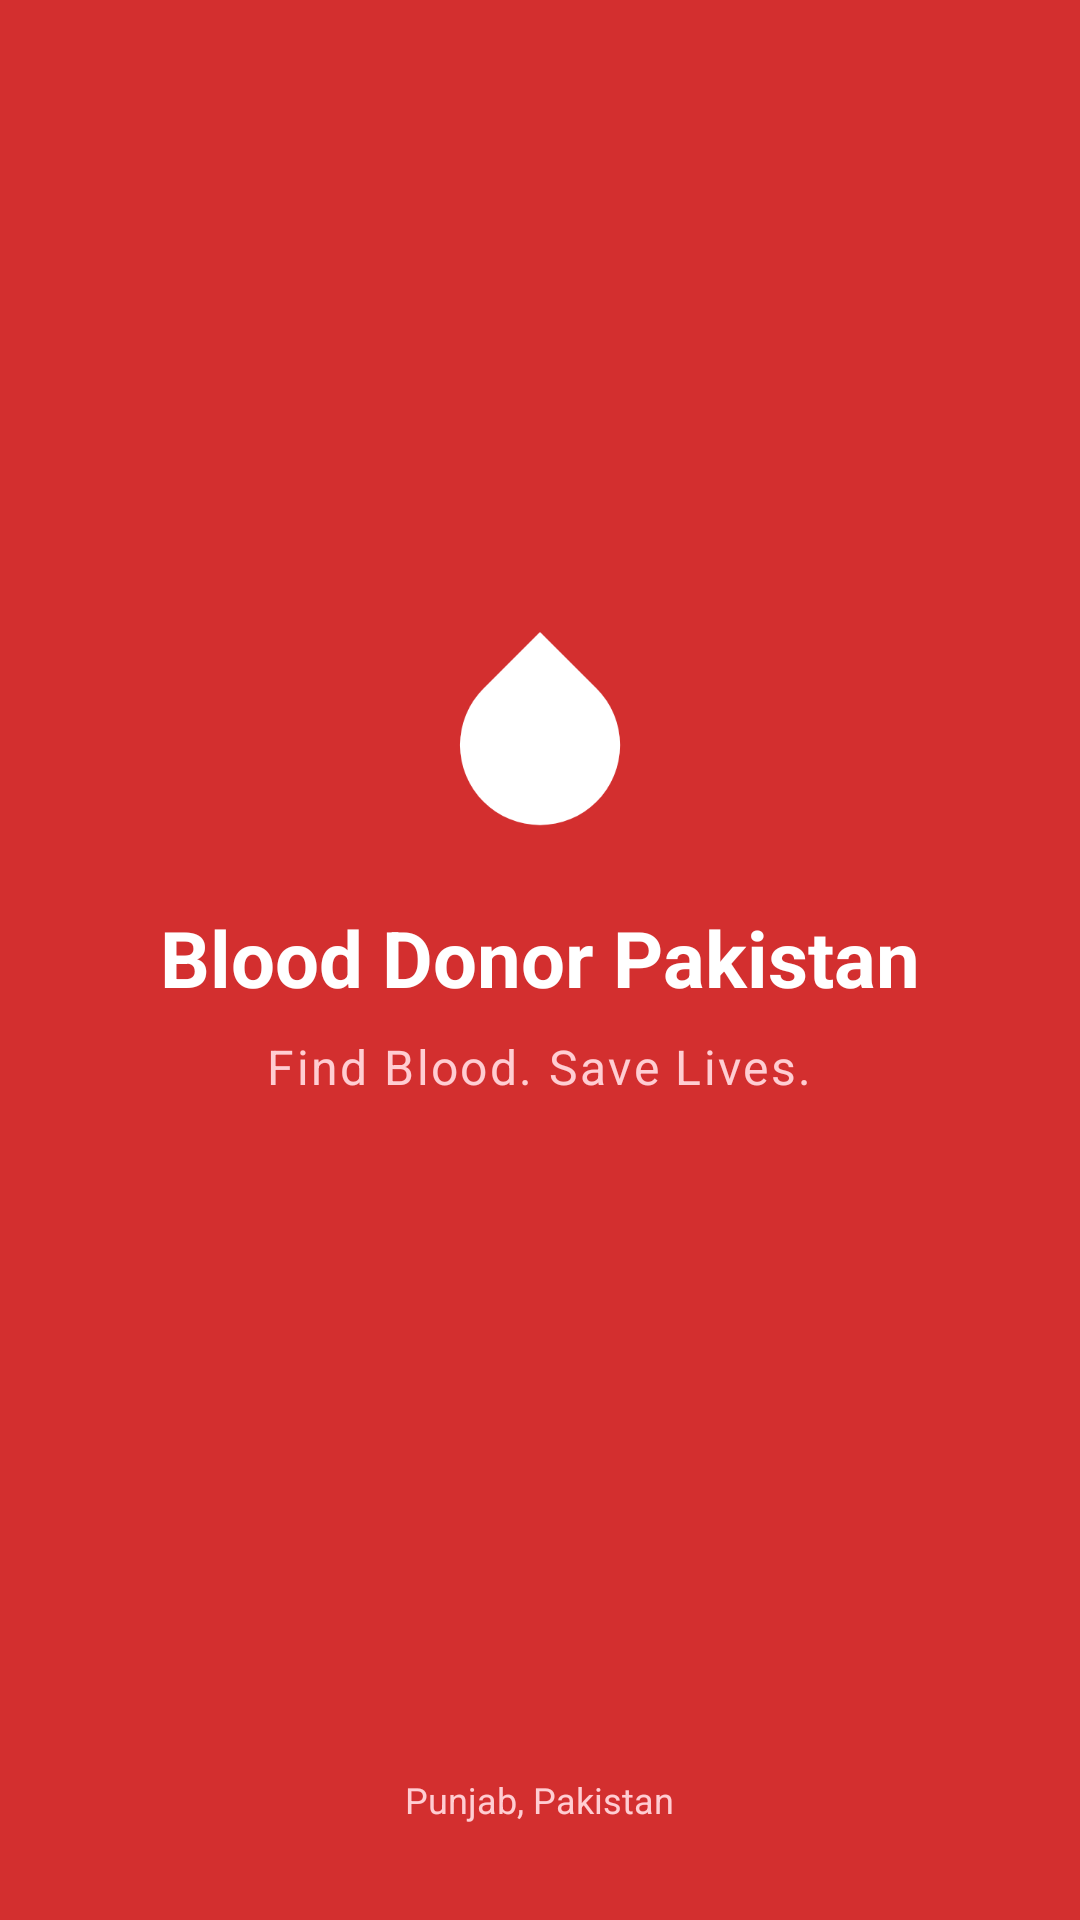

Where to tap for icons on this 1080 x 1920 app screen, as [x,y]:
blood drop: [540,729]
